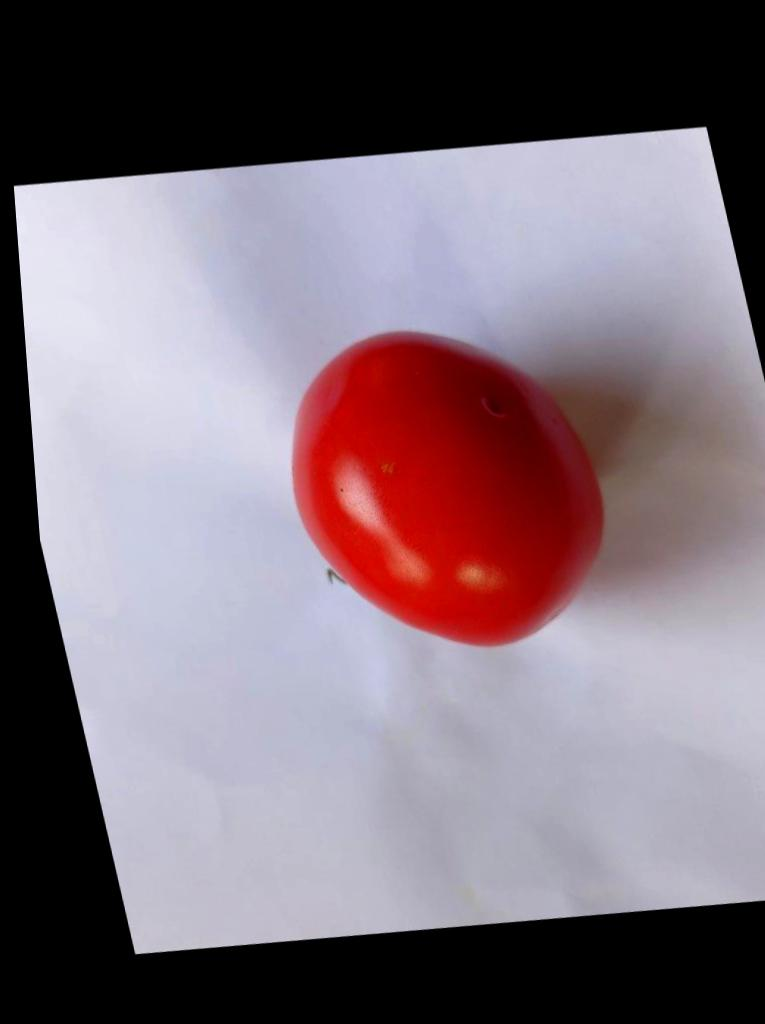tomato: (292, 332, 601, 645)
